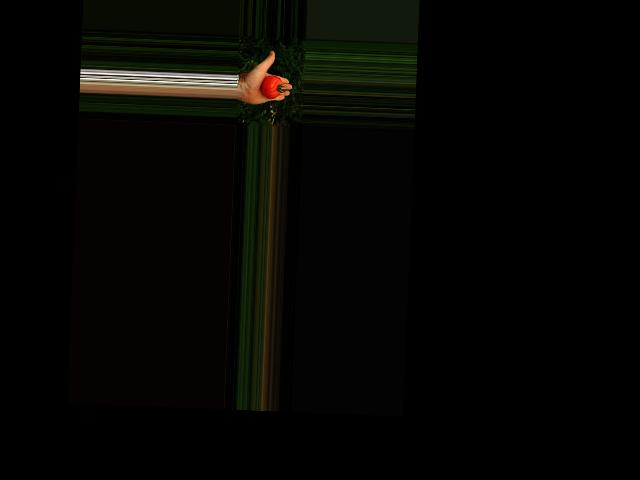tomato: (260, 75, 282, 100)
